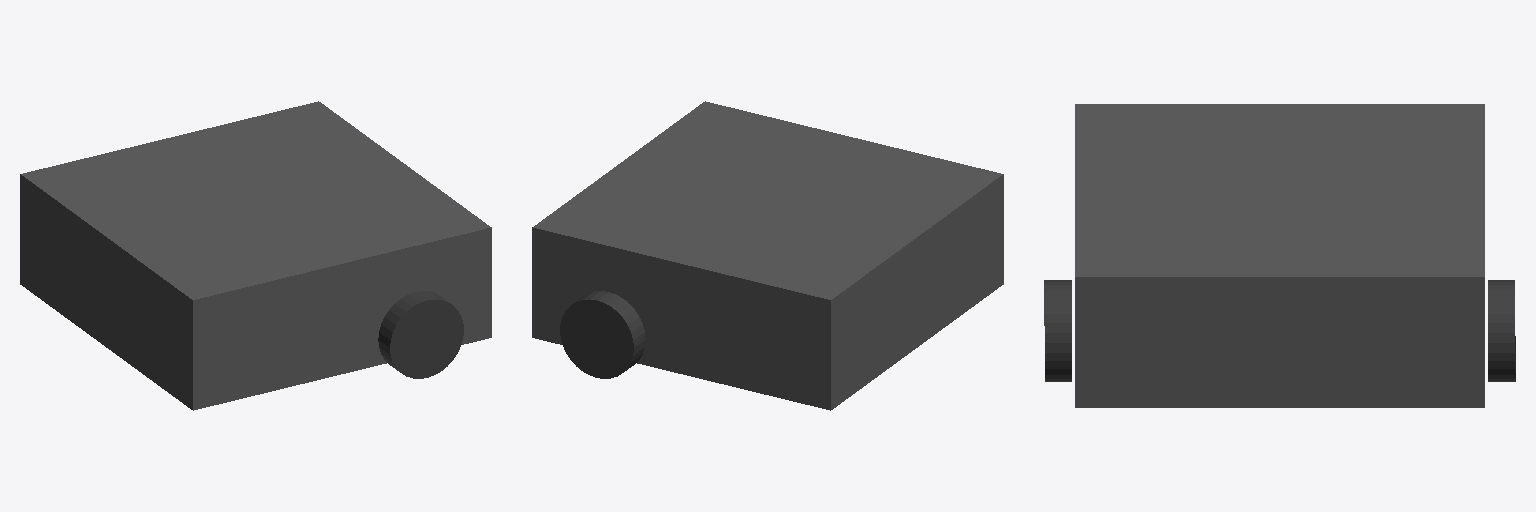
robot.urdf — turtlebot3_waffle_pi:
<?xml version="1.0" ?>
<robot name="turtlebot3_waffle_pi" xmlns:xacro="http://ros.org/wiki/xacro">

  <material name="black">
      <color rgba="0.0 0.0 0.0 1.0"/>
  </material>

  <material name="dark">
    <color rgba="0.3 0.3 0.3 1.0"/>
  </material>
  <material name="light_black">
    <color rgba="0.4 0.4 0.4 1.0"/>
  </material>

  <material name="blue">
    <color rgba="0.0 0.0 0.8 1.0"/>
  </material>

  <material name="green">
    <color rgba="0.0 0.8 0.0 1.0"/>
  </material>

  <material name="grey">
    <color rgba="0.5 0.5 0.5 1.0"/>
  </material>

  <material name="red">
    <color rgba="0.8 0.0 0.0 1.0"/>
  </material>

  <material name="white">
    <color rgba="1.0 1.0 1.0 1.0"/>
  </material>

  <link name="base_footprint"/>

  <joint name="base_joint" type="fixed">
    <parent link="base_footprint"/>
    <child link="base_link" />
    <origin xyz="0 0 0.010" rpy="0 0 0"/>
  </joint>

  <link name="base_link">
    <visual>
      <origin xyz="-0.064 0 0.047" rpy="0 0 0"/>
      <geometry>
        <box size="0.266 0.266 0.094"/>
      </geometry>
      <material name="light_black"/>
    </visual>

    <collision>
      <origin xyz="-0.064 0 0.047" rpy="0 0 0"/>
      <geometry>
        <box size="0.266 0.266 0.094"/>
      </geometry>
    </collision>

    <inertial>
      <origin xyz="0 0 0" rpy="0 0 0"/>
      <mass value="1.3729096e+00"/>
      <inertia ixx="8.7002718e-03" ixy="-4.7576583e-05" ixz="1.1160499e-04"
               iyy="8.6195418e-03" iyz="-3.5422299e-06"
               izz="1.4612727e-02" />
    </inertial>
  </link>

  <joint name="wheel_left_joint" type="continuous">
    <parent link="base_link"/>
    <child link="wheel_left_link"/>
    <origin xyz="0.0 0.144 0.023" rpy="-1.57 0 0"/>
    <axis xyz="0 0 1"/>
  </joint>

  <link name="wheel_left_link">
    <visual>
      <origin xyz="0 0 0" rpy="0 0 0"/>
      <geometry>
        <cylinder length="0.018" radius="0.033"/>
      </geometry>
      <material name="dark"/>
    </visual>

    <collision>
      <origin xyz="0 0 0" rpy="0 0 0"/>
      <geometry>
        <cylinder length="0.018" radius="0.033"/>
      </geometry>
    </collision>

    <inertial>
      <origin xyz="0 0 0" />
      <mass value="2.8498940e-02" />
      <inertia ixx="1.1175580e-05" ixy="-4.2369783e-11" ixz="-5.9381719e-09"
               iyy="1.1192413e-05" iyz="-1.4400107e-11"
               izz="2.0712558e-05" />
      </inertial>
  </link>

  <joint name="wheel_right_joint" type="continuous">
    <parent link="base_link"/>
    <child link="wheel_right_link"/>
    <origin xyz="0.0 -0.144 0.023" rpy="-1.57 0 0"/>
    <axis xyz="0 0 1"/>
  </joint>

  <link name="wheel_right_link">
    <visual>
      <origin xyz="0 0 0" rpy="0 0 0"/>
      <geometry>
        <cylinder length="0.018" radius="0.033"/>
      </geometry>
      <material name="dark"/>
    </visual>

    <collision>
      <origin xyz="0 0 0" rpy="0 0 0"/>
      <geometry>
        <cylinder length="0.018" radius="0.033"/>
      </geometry>
    </collision>

    <inertial>
      <origin xyz="0 0 0" />
      <mass value="2.8498940e-02" />
      <inertia ixx="1.1175580e-05" ixy="-4.2369783e-11" ixz="-5.9381719e-09"
               iyy="1.1192413e-05" iyz="-1.4400107e-11"
               izz="2.0712558e-05" />
      </inertial>
  </link>

  <joint name="caster_back_right_joint" type="fixed">
    <parent link="base_link"/>
    <child link="caster_back_right_link"/>
    <origin xyz="-0.177 -0.064 -0.004" rpy="-1.57 0 0"/>
  </joint>

  <link name="caster_back_right_link">
    <collision>
      <origin xyz="0 0.001 0" rpy="0 0 0"/>
      <geometry>
        <box size="0.030 0.009 0.020"/>
      </geometry>
    </collision>

    <inertial>
      <origin xyz="0 0 0" />
      <mass value="0.005" />
      <inertia ixx="0.001" ixy="0.0" ixz="0.0"
               iyy="0.001" iyz="0.0"
               izz="0.001" />
    </inertial>
  </link>

  <joint name="caster_back_left_joint" type="fixed">
    <parent link="base_link"/>
    <child link="caster_back_left_link"/>
    <origin xyz="-0.177 0.064 -0.004" rpy="-1.57 0 0"/>
  </joint>

  <link name="caster_back_left_link">
    <collision>
      <origin xyz="0 0.001 0" rpy="0 0 0"/>
      <geometry>
        <box size="0.030 0.009 0.020"/>
      </geometry>
    </collision>

    <inertial>
      <origin xyz="0 0 0" />
      <mass value="0.005" />
      <inertia ixx="0.001" ixy="0.0" ixz="0.0"
               iyy="0.001" iyz="0.0"
               izz="0.001" />
    </inertial>
  </link>

</robot>

--- Render facts (derived) ---
The picture shows the robot from 3 angles, left to right: view 1: azimuth 30°, elevation 25°; view 2: azimuth 150°, elevation 25°; view 3: azimuth 270°, elevation 25°; orthographic projection.
Model turtlebot3_waffle_pi with 6 links and 5 joints (2 continuous, 3 fixed), rooted at base_footprint, posed all joints at 0.
Links seen in each view (by area): view 1: base_link, wheel_right_link; view 2: base_link, wheel_left_link; view 3: base_link, wheel_left_link, wheel_right_link.
Link boxes in pixels (<box>): base_link: <box>20,101,491,410</box>; wheel_right_link: <box>378,291,463,378</box>; base_link: <box>532,101,1003,410</box>; wheel_left_link: <box>560,291,645,378</box>; base_link: <box>1075,104,1484,407</box>; wheel_left_link: <box>1488,280,1515,381</box>; wheel_right_link: <box>1044,280,1071,381</box>.
Size in the robot's own frame: 0.266 by 0.3061 by 0.104 metres.
Geometry: primitives only (box / cylinder / sphere), no mesh files.